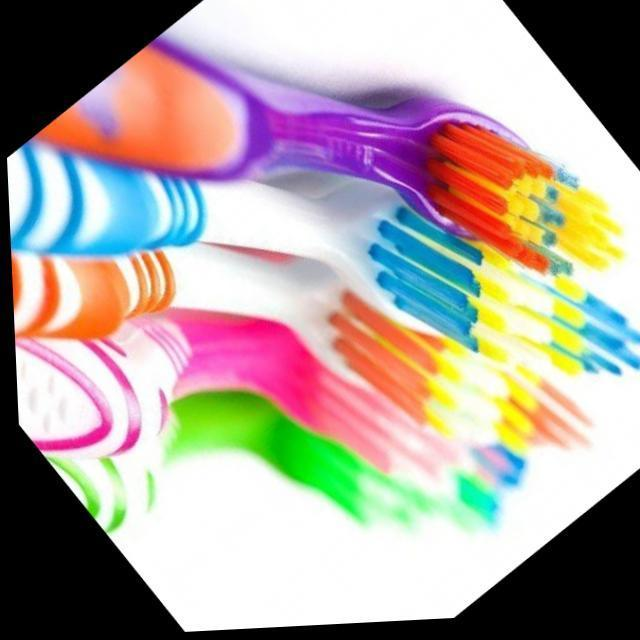toothbrush: (25, 37, 622, 285), (5, 144, 640, 375), (8, 241, 580, 451), (11, 314, 522, 494), (36, 389, 498, 541)
